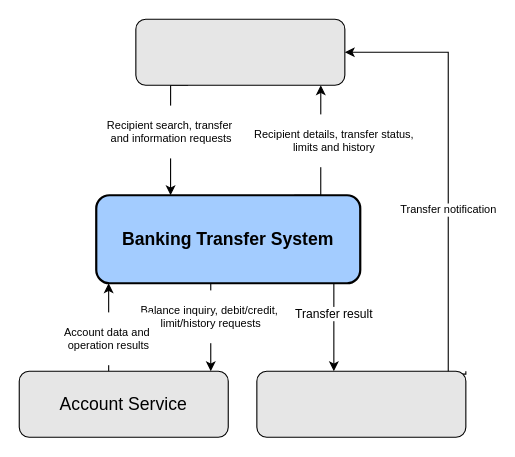
Image size: 515x457. Some labels were removed from this diagram. Each missing label, with the box of its shape:
Bank Client: (135, 18, 345, 85)
Notification Service: (256, 370, 466, 437)
